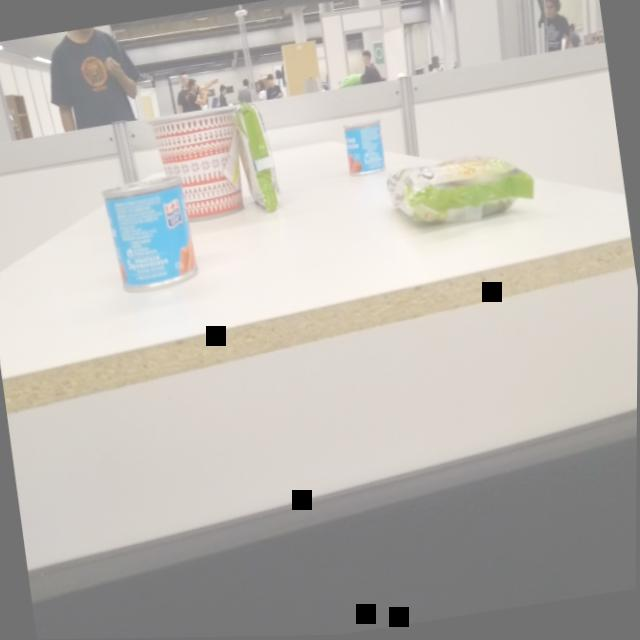noodles: (381, 139, 543, 244), (224, 97, 292, 225)
sausages: (97, 167, 208, 306), (338, 116, 391, 182)
